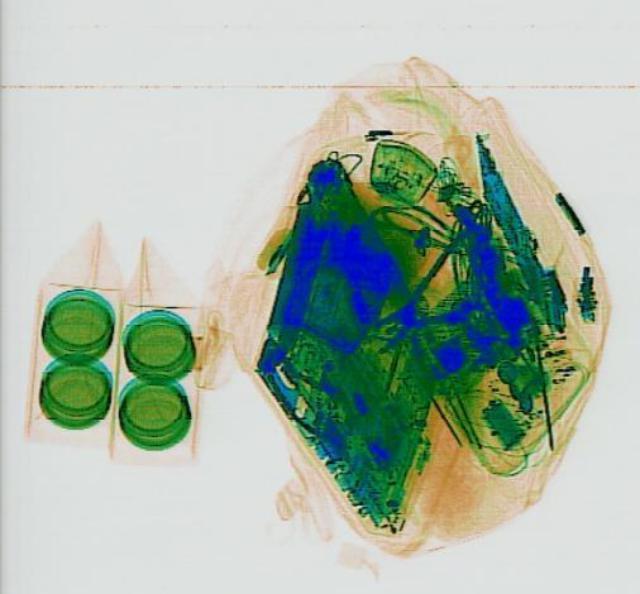Pliers: (338, 223, 518, 365)
